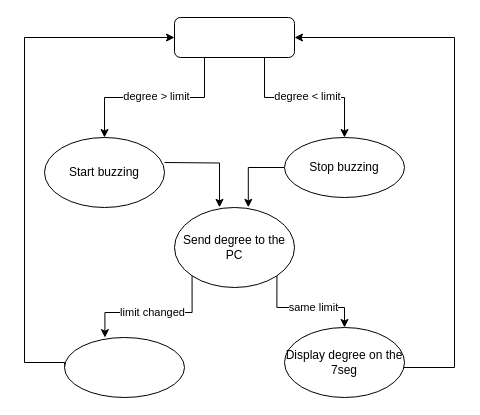
This 480x415 diagram has some shape labels left out. The shapes that lost their labels are listed below. From the top down, each one's centre as x and y in pixels, then its label:
(x=234, y=37): Measure degree and sample limit
(x=124, y=367): Display limit ont the 7seg
